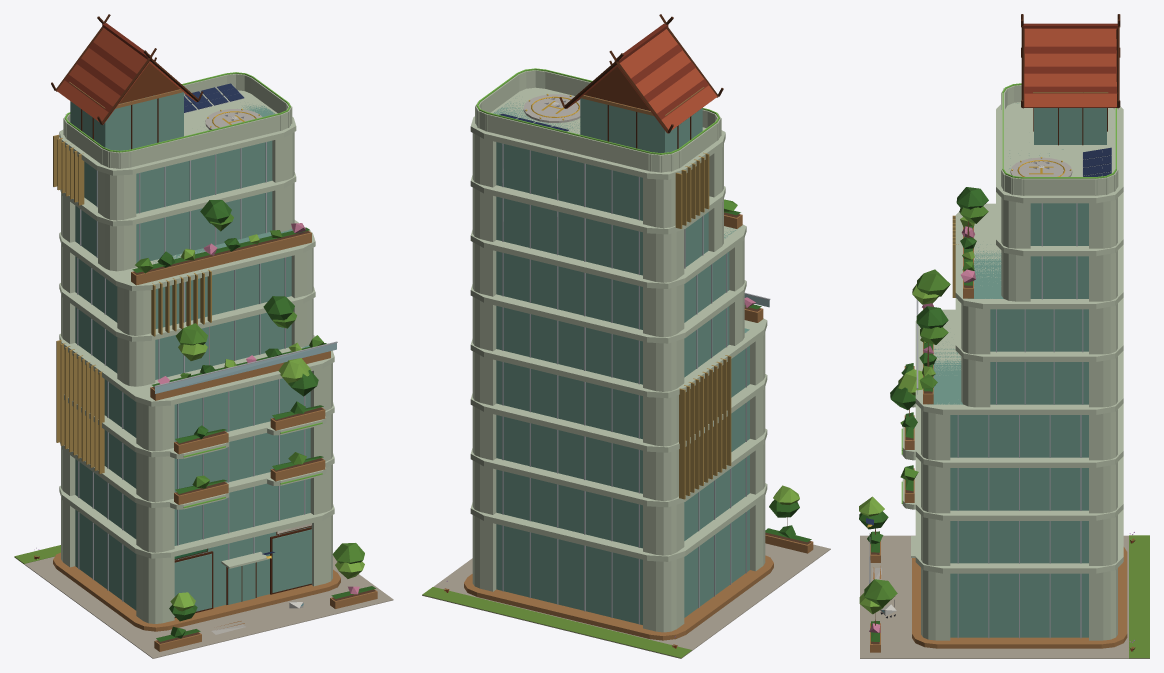
The model's file is shop_3.glb.
3 renders of one model, left to right at view 1: azimuth 30°, elevation 25°; view 2: azimuth 150°, elevation 25°; view 3: azimuth 270°, elevation 25°, orthographic. The views are drawn at different scales.
Parts seen in each view (by area): view 1: body, windows; view 2: body, windows; view 3: body, windows.
Part boxes in pixels (x1=…): body: x1=14, y1=14, x2=393, y2=658; windows: x1=64, y1=72, x2=322, y2=605; body: x1=422, y1=14, x2=830, y2=658; windows: x1=476, y1=68, x2=719, y2=154; body: x1=859, y1=14, x2=1149, y2=658; windows: x1=867, y1=83, x2=1116, y2=612.
Bounding box in the file's own units: 15.9 × 33.97 × 15.95.
